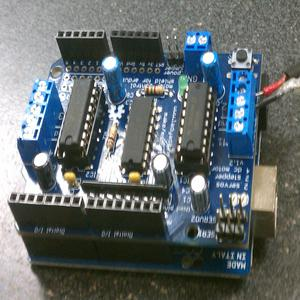duino: (5, 15, 280, 273)
